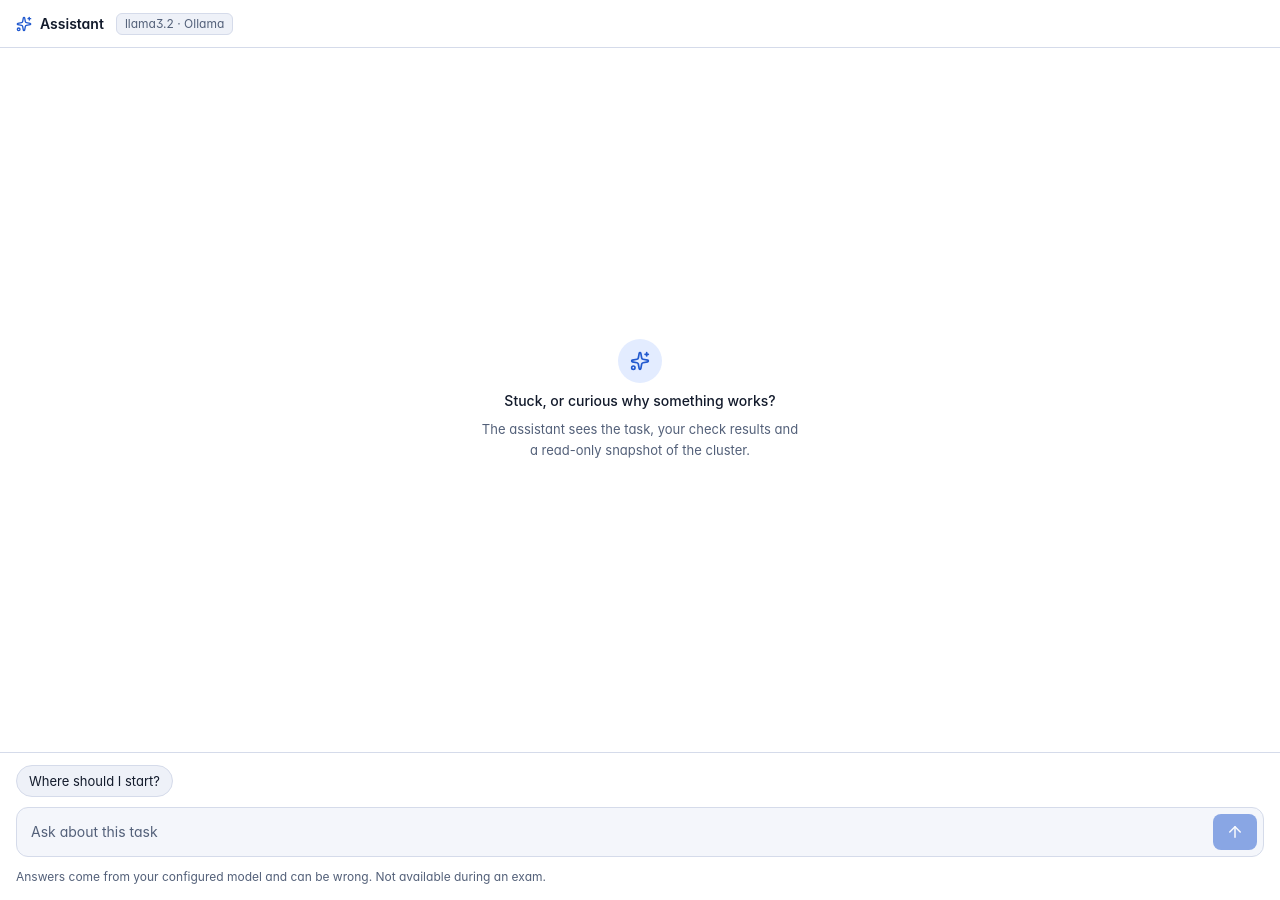
Test: AssistantPanel › starts a new conversation after asking
Expected: the button "New conversation" is not shown
Type "Why?" into the text box named "Ask the assistant" at coordinates (618, 832), box [31,814,1205,850]
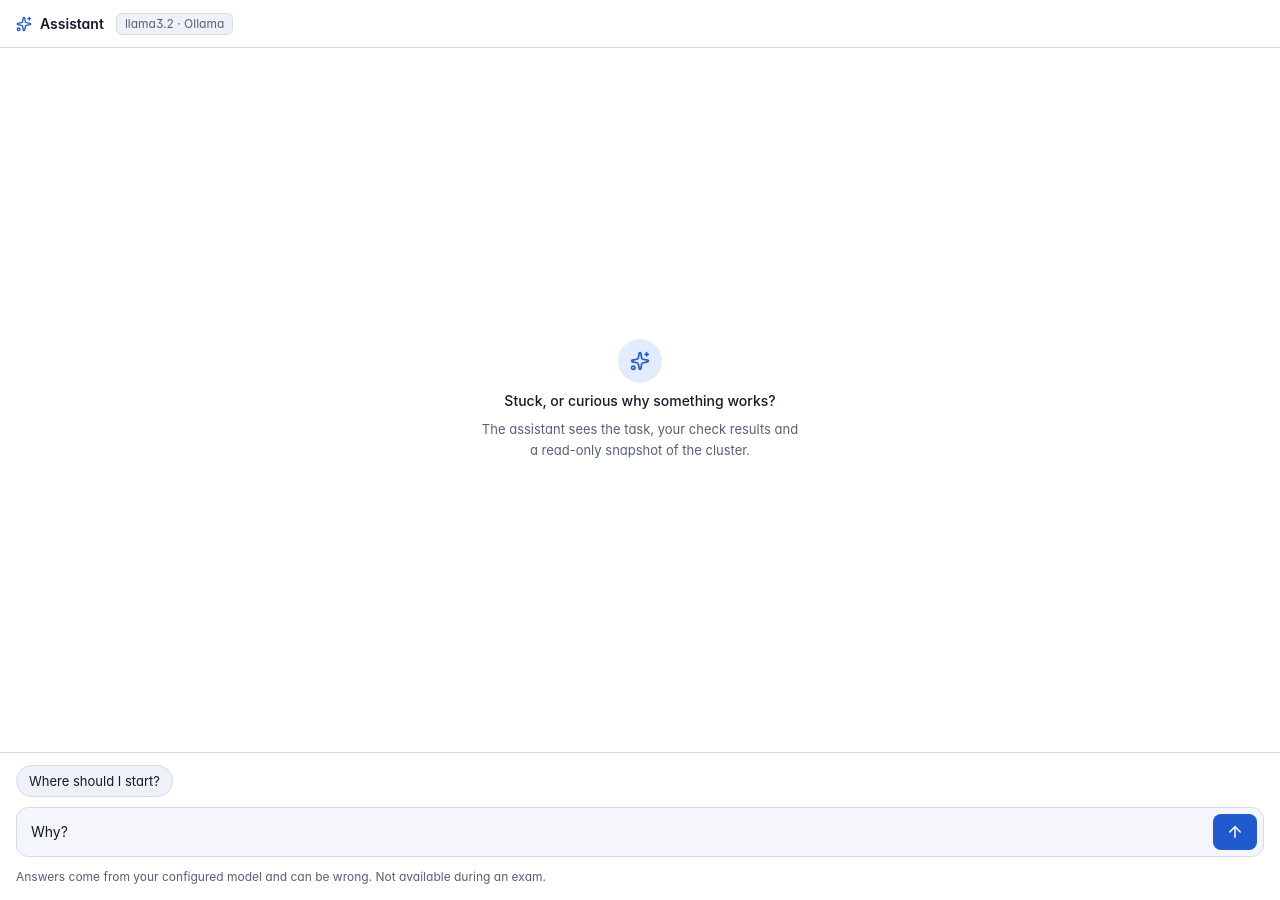
Press Enter in the text box named "Ask the assistant", box [31,814,1205,850]
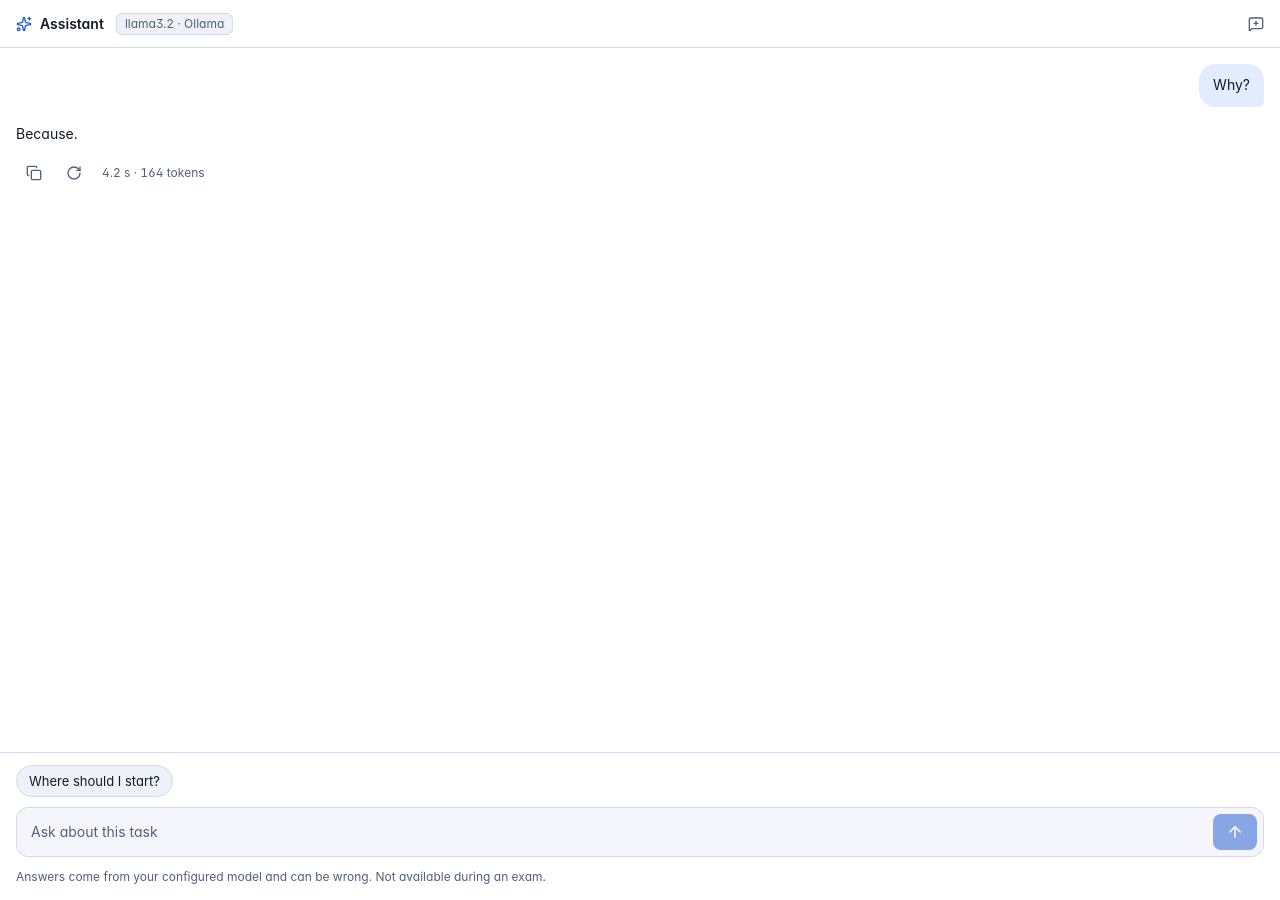
Expected: the button named "Send" is shown, [1213,814,1257,850]
Click the button named "New conversation" at coordinates (1256, 24), box [1238,6,1274,42]
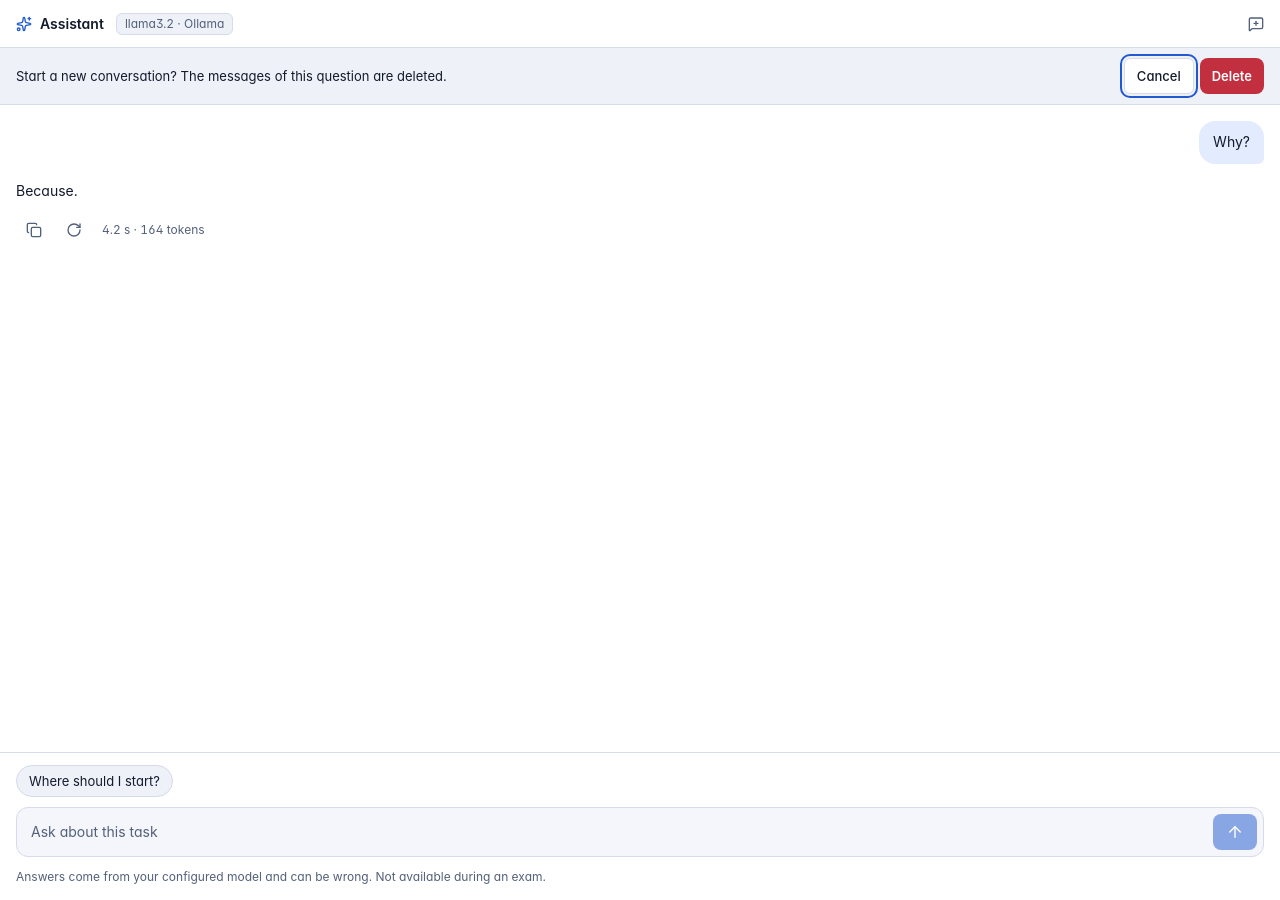
Click the button "Cancel" at coordinates (1159, 76), box [1124,58,1194,94]
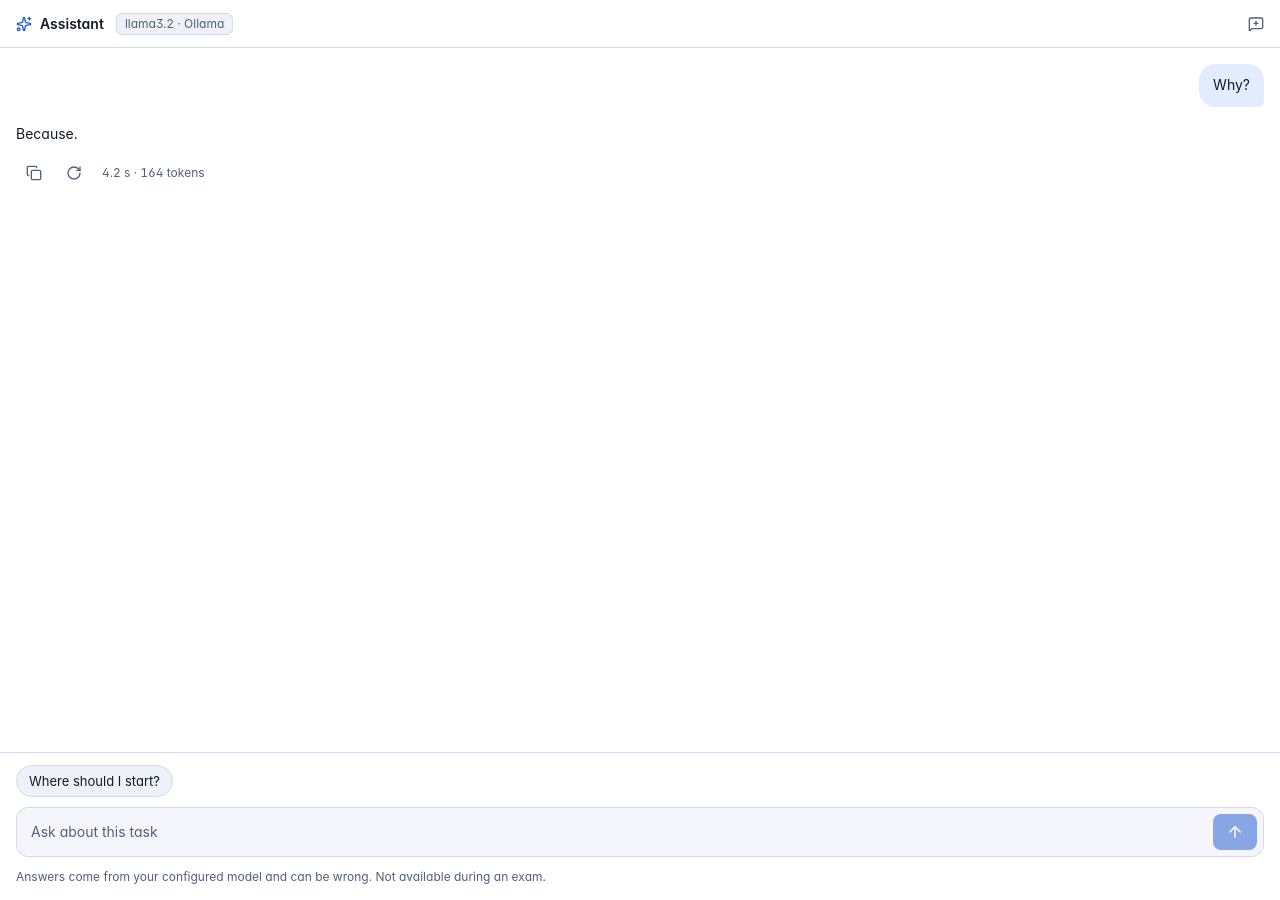
Expected: the text "Because." is shown, [16,125,78,142]
Expected: the dialog is gone
Click the button named "New conversation" at coordinates (1256, 24), box [1238,6,1274,42]
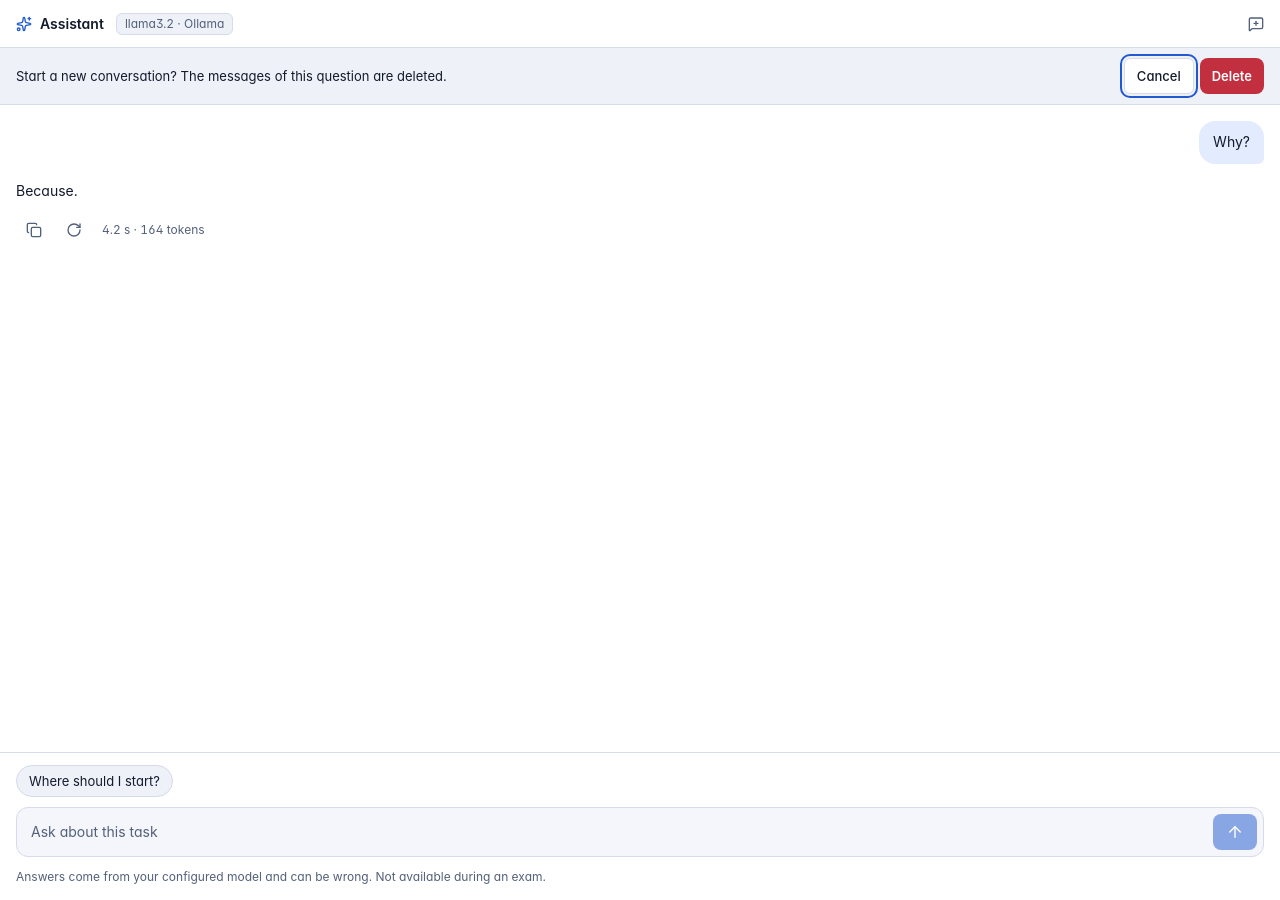
Click the button "Delete" at coordinates (1232, 76), box [1200,58,1264,94]
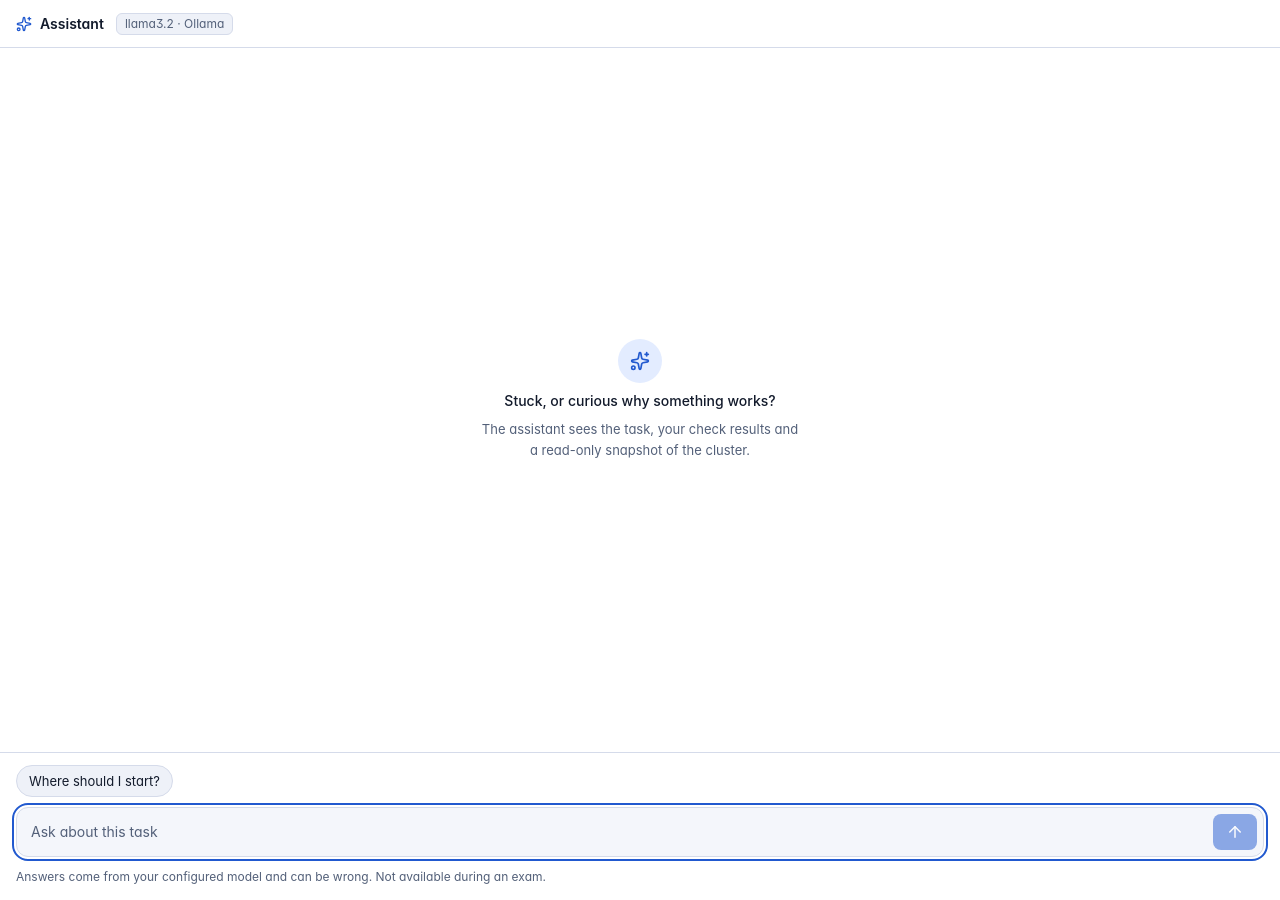
Expected: the text "Because." is gone
Expected: the text "new conversation" is gone
Expected: the text "Stuck, or curious why something works?" is shown, [504,391,776,411]
